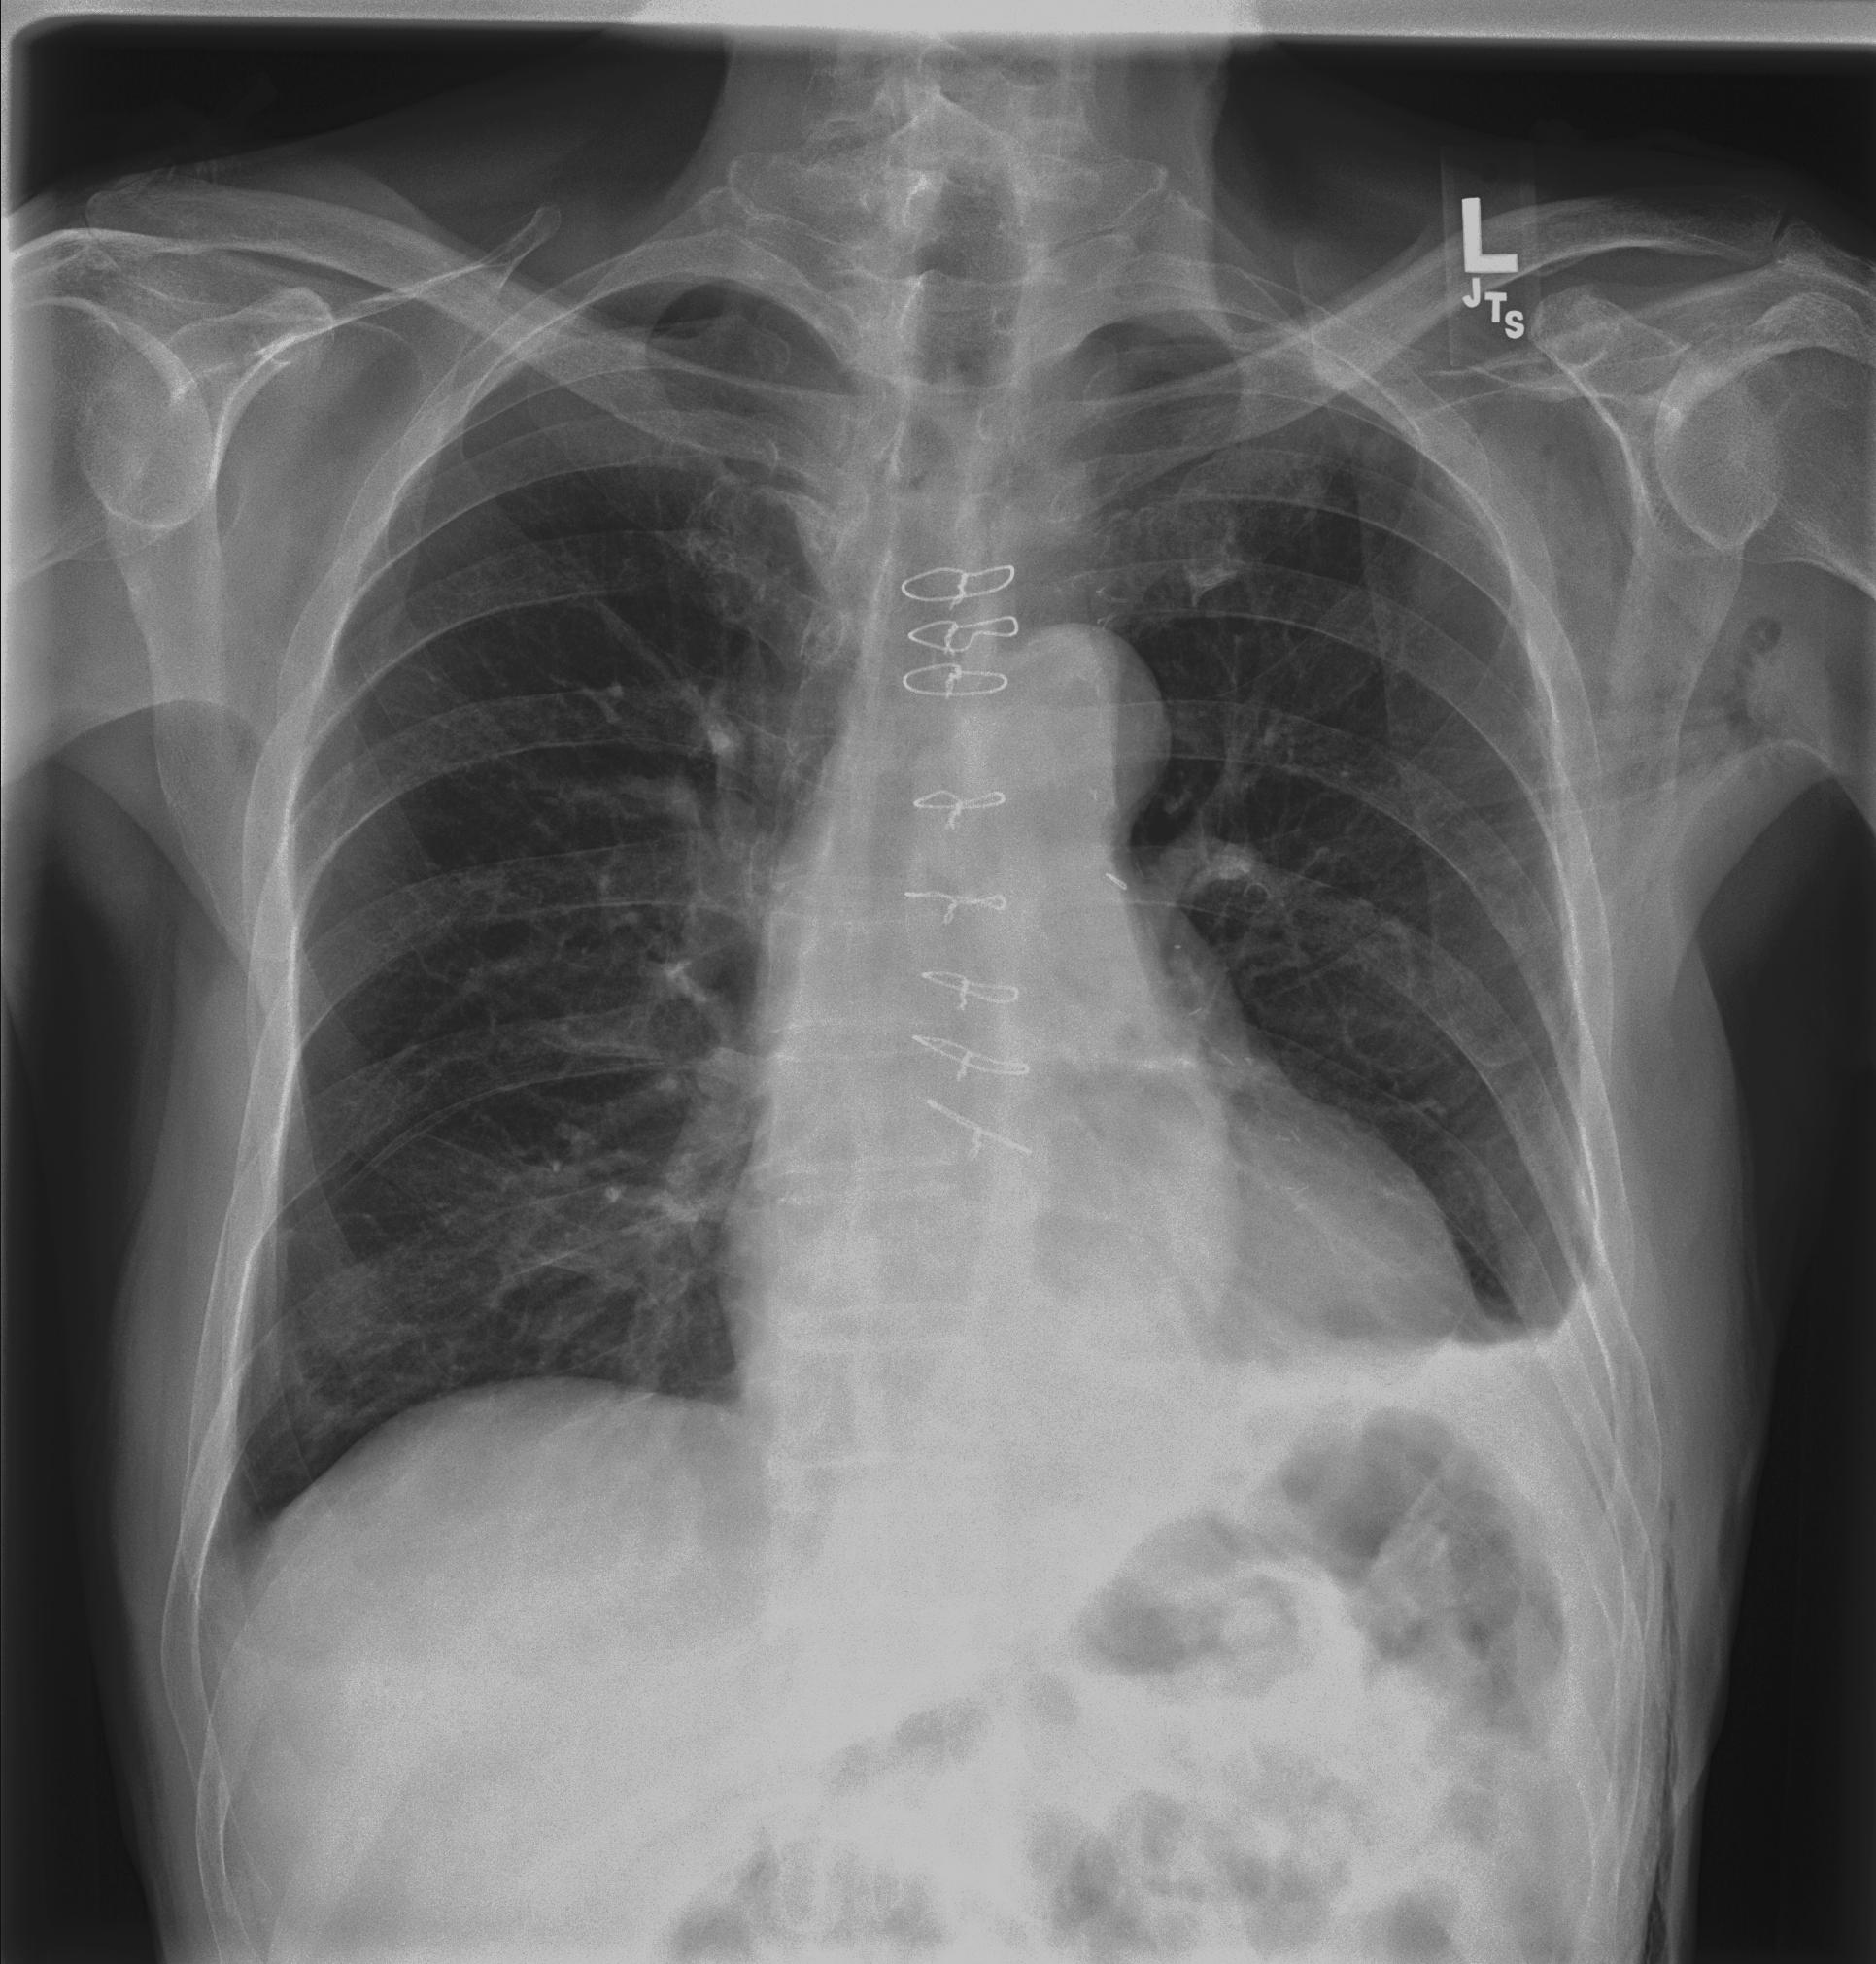Pleural Effusion: (1406, 1310, 1701, 1592)
